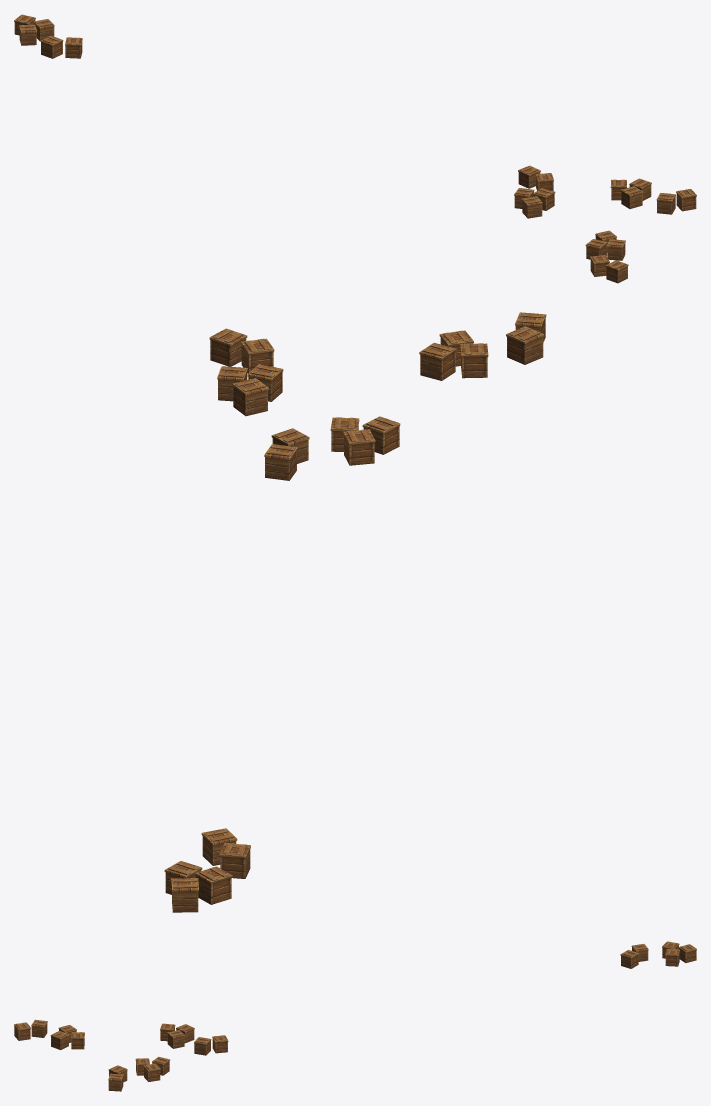
Rendered from yanshi1_wujian2_1.fbx.
3 renders of one model, top to bottom at view 1: azimuth 30°, elevation 25°; view 2: azimuth 150°, elevation 25°; view 3: azimuth 270°, elevation 25°, orthographic. The views are drawn at different scales.
Parts seen in each view (by area): view 1: yanshi1_wujian2_1; view 2: yanshi1_wujian2_1; view 3: yanshi1_wujian2_1.
Boxes of the visible parts, box(x1,y1,x2,y2) form: yanshi1_wujian2_1: box(14, 14, 696, 283); yanshi1_wujian2_1: box(164, 312, 546, 912); yanshi1_wujian2_1: box(14, 941, 696, 1091).
Size of the model in its own units: 2236 by 90.48 by 4652.
